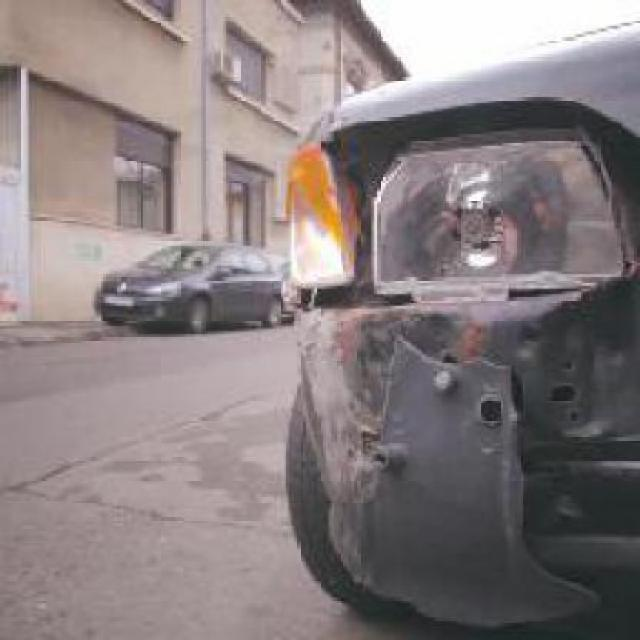damaged-front-bumper: (288, 308, 638, 602)
damaged-head-light: (285, 120, 638, 303)
